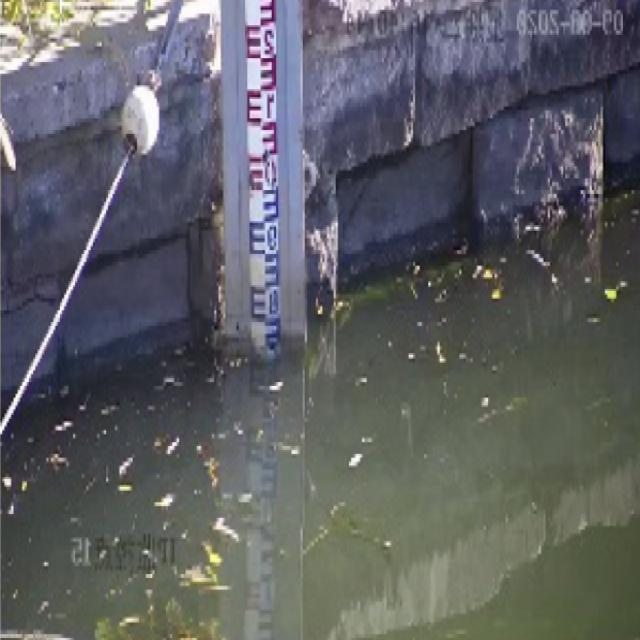water-level-meters: (222, 0, 304, 623)
